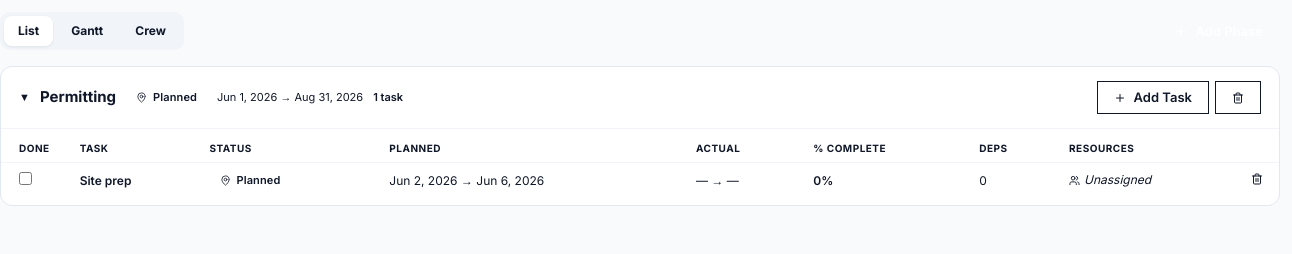
Test: Permit milestone Add button render conditions (BAN-374 P6) › is visible when canWrite + Hawaii overlay on + permits sub-toggle on (defaults for Hawaii project)
This screenshot has width=1292, height=254.
Click the tab "Gantt". click: [87, 31]
box: [57,16,117,46]
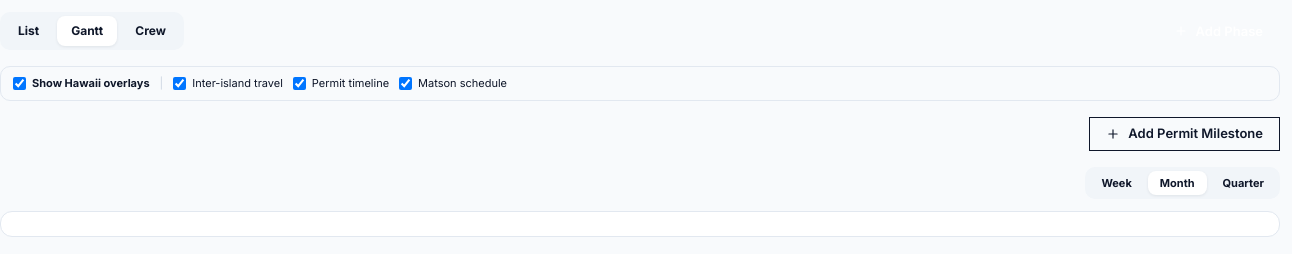
Check: the button "Add Permit Milestone" is shown, box [1089,116,1280,150]
